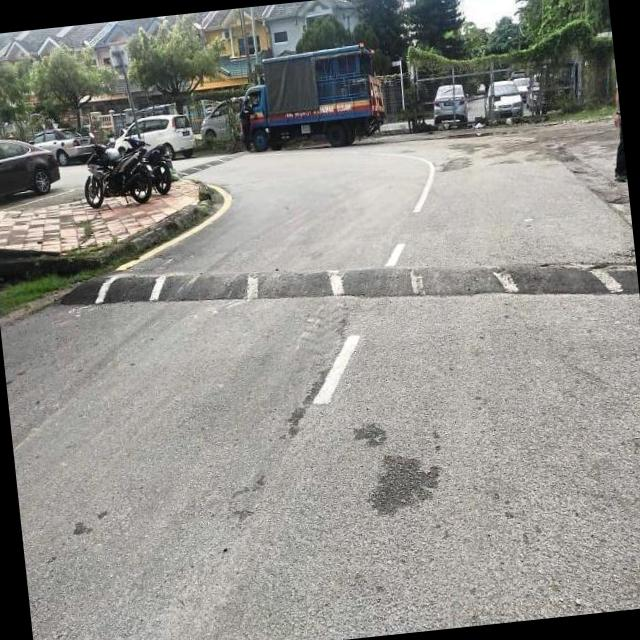bump: (108, 212, 630, 368)
